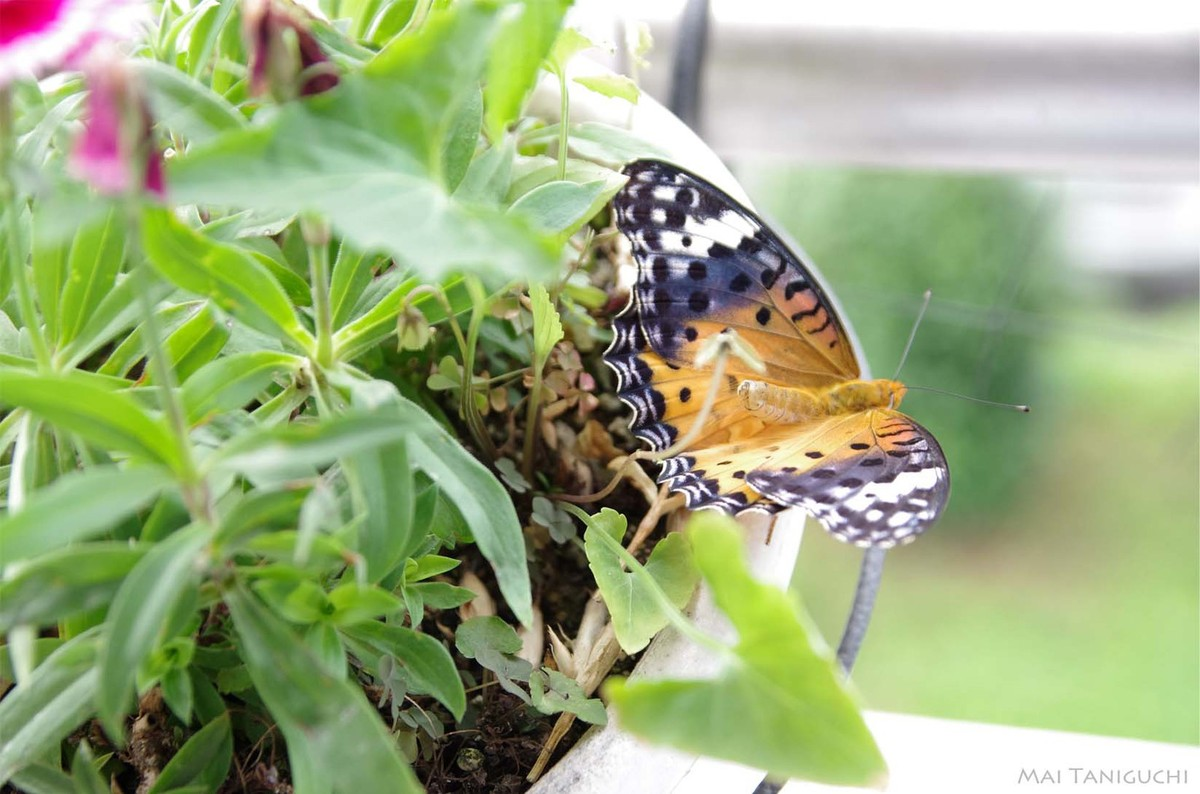Argyreus hyperbius: (592, 149, 1047, 556)
butterfly: (594, 151, 1049, 558)
